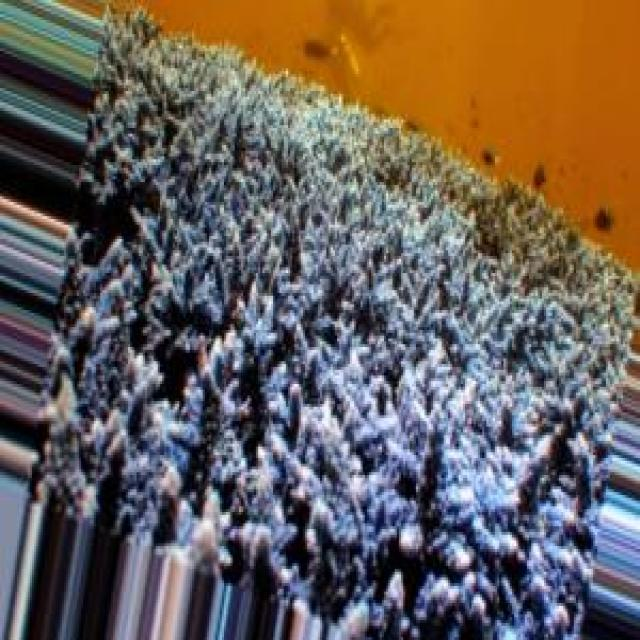Healthy: (33, 12, 640, 640)
